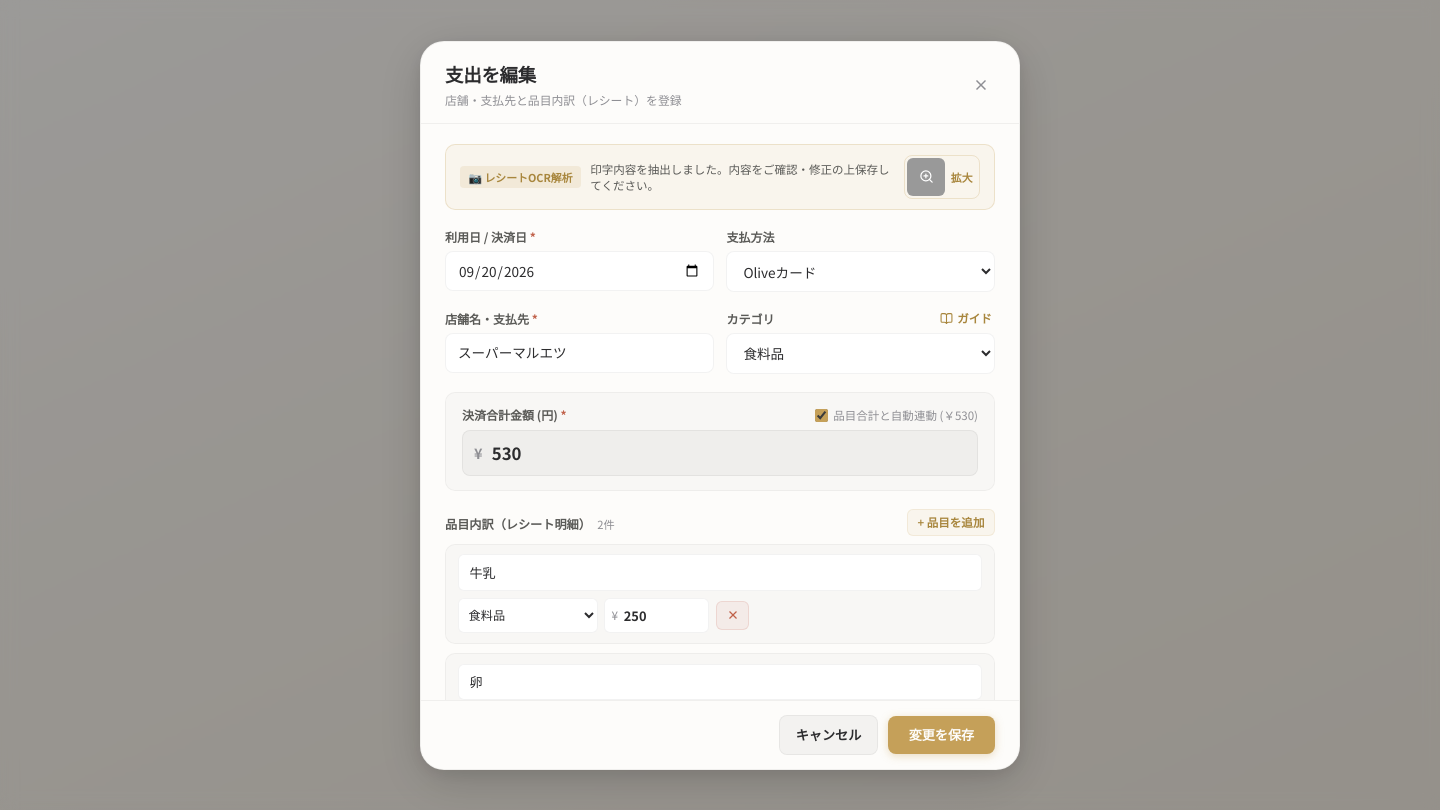
TransactionModal コンポーネント - レシート拡大プレビュー機能 › 保存処理でエラーが発生した場合、エラーバナーが表示されモーダルが閉じないこと
This screenshot has width=1440, height=810.
Click the button "変更を保存": (941, 734) [888,716,995,753]
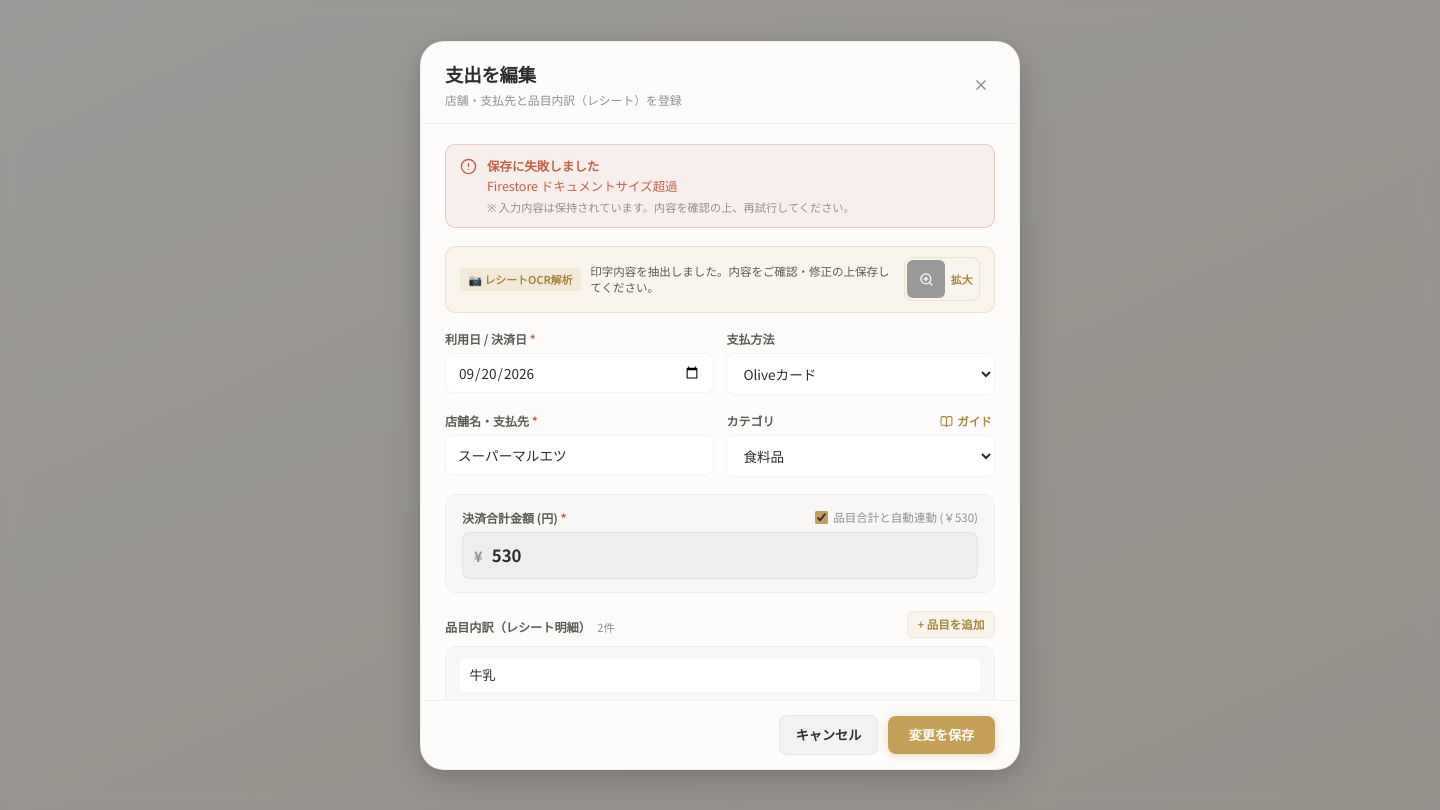
Now the text "保存に失敗しました" is shown, box [487,156,599,174]
Now the text "Firestore ドキュメントサイズ超過" is shown, box [487,176,678,194]
Now the text "※ 入力内容は保持されています。内容を確認の上、再試行してください。" is shown, box [487,199,855,215]
